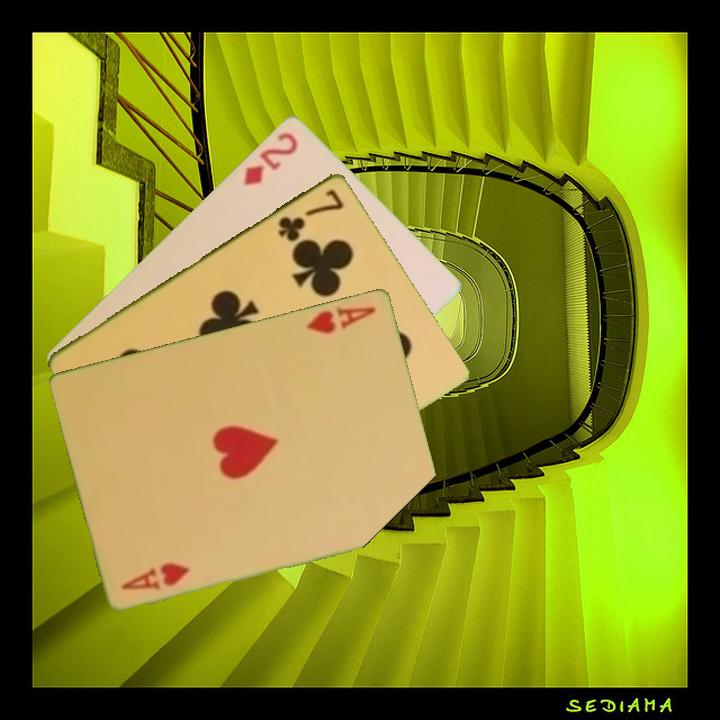2d: (239, 128, 301, 188)
7c: (274, 185, 347, 244)
Ah: (118, 558, 192, 593), (303, 302, 379, 336)
